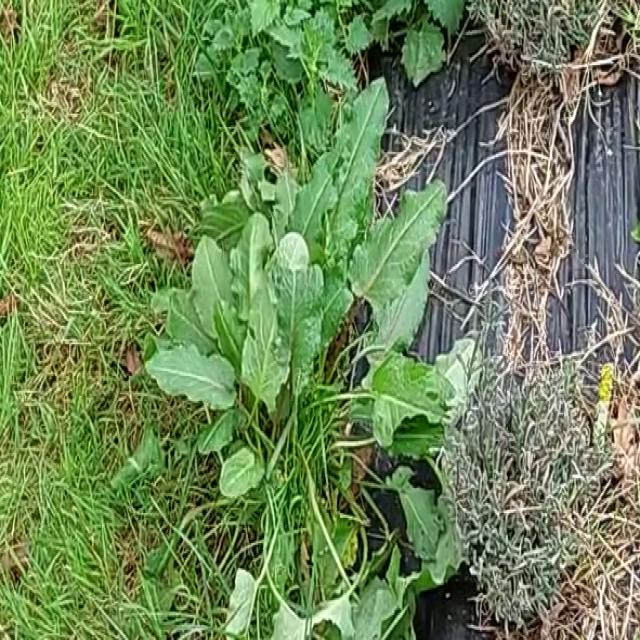organic waste: (118, 93, 468, 570)
